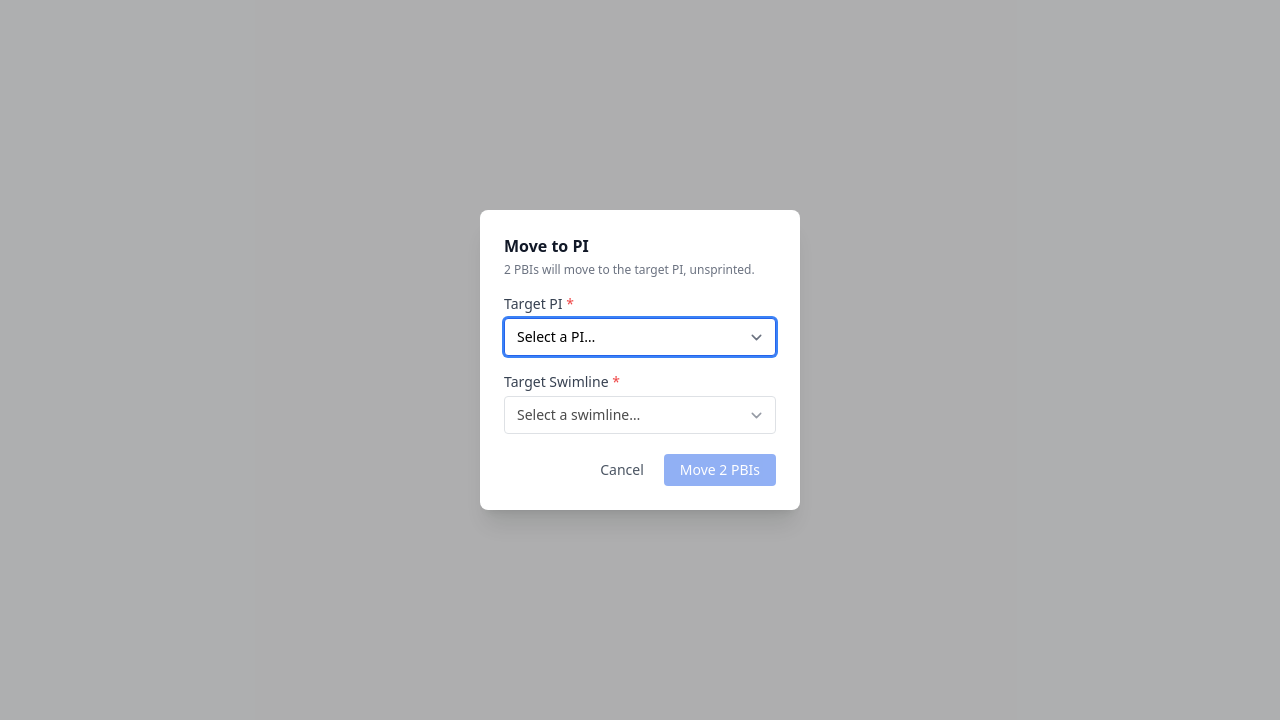
SplitFeatureModal › shows error message on mutation failure
The width and height of the screenshot is (1280, 720).
Select "PI 2" in the dropdown labelled "Target PI *" at (640, 337), box [504,318,776,356]
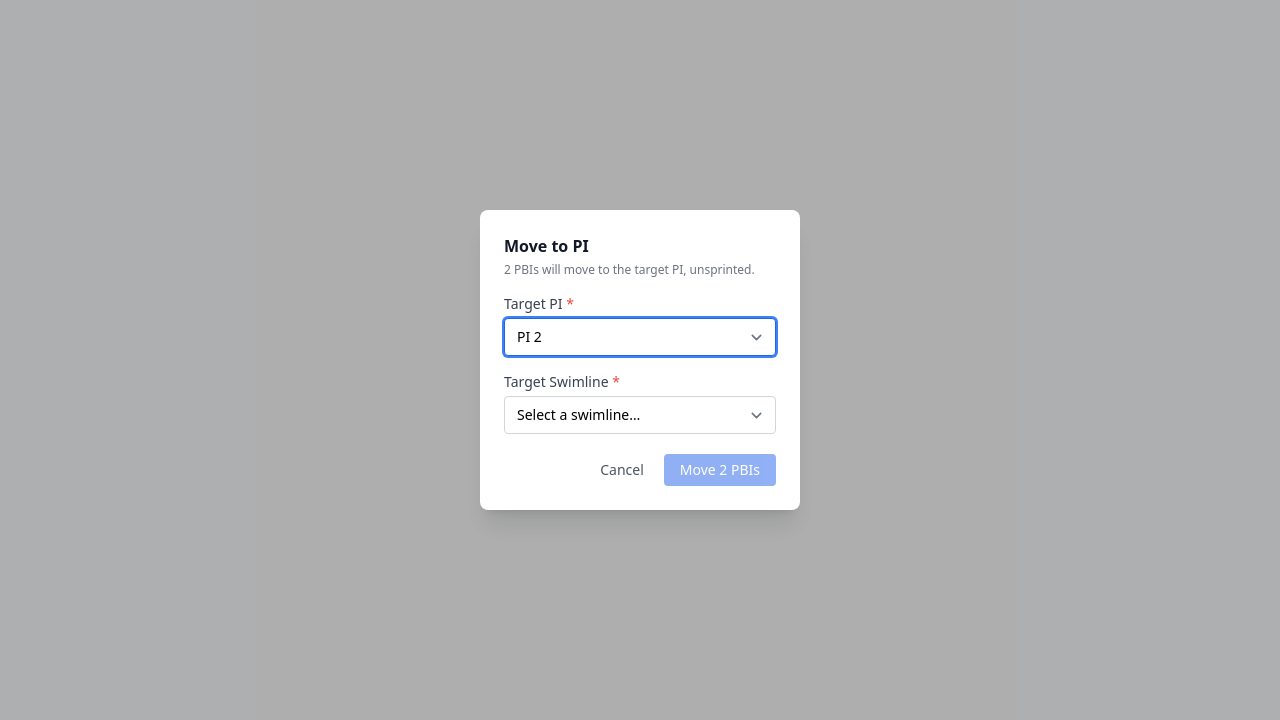
Select "Team Beta" in the dropdown labelled "Target Swimline *" at (640, 415), box [504,396,776,434]
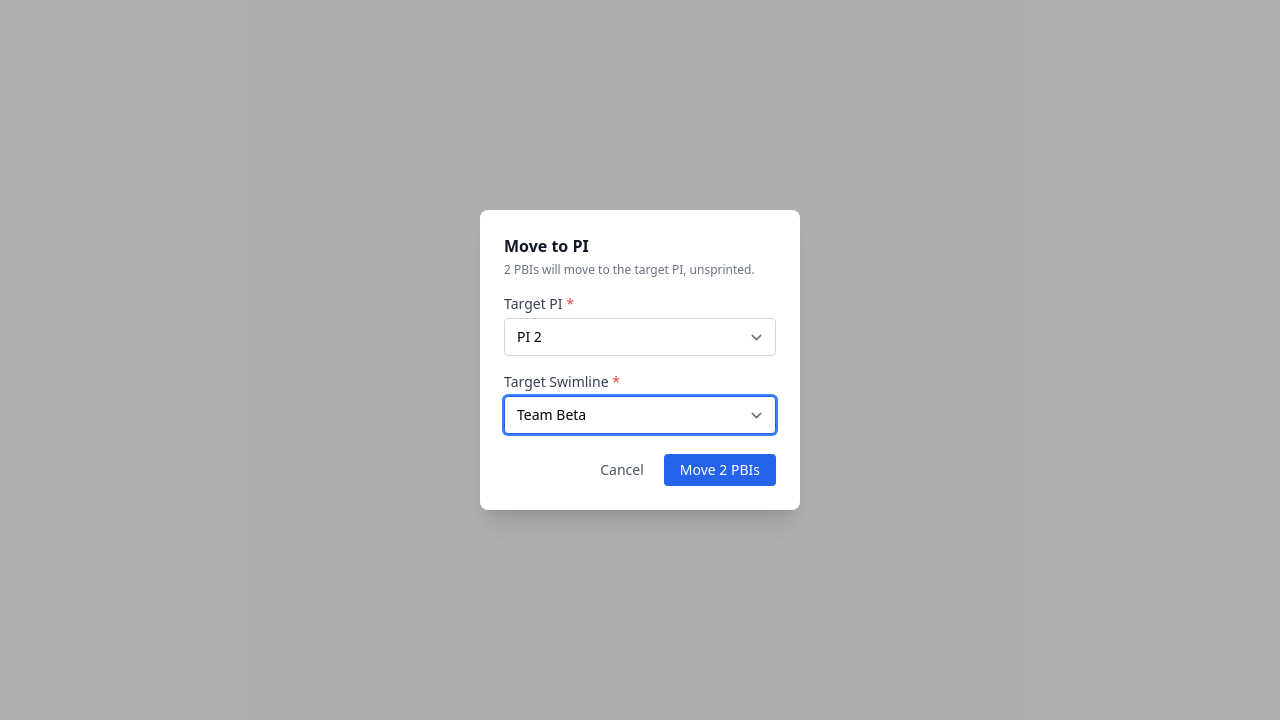
Click the button "Move 2 PBIs" at (720, 470), box [664,454,776,486]
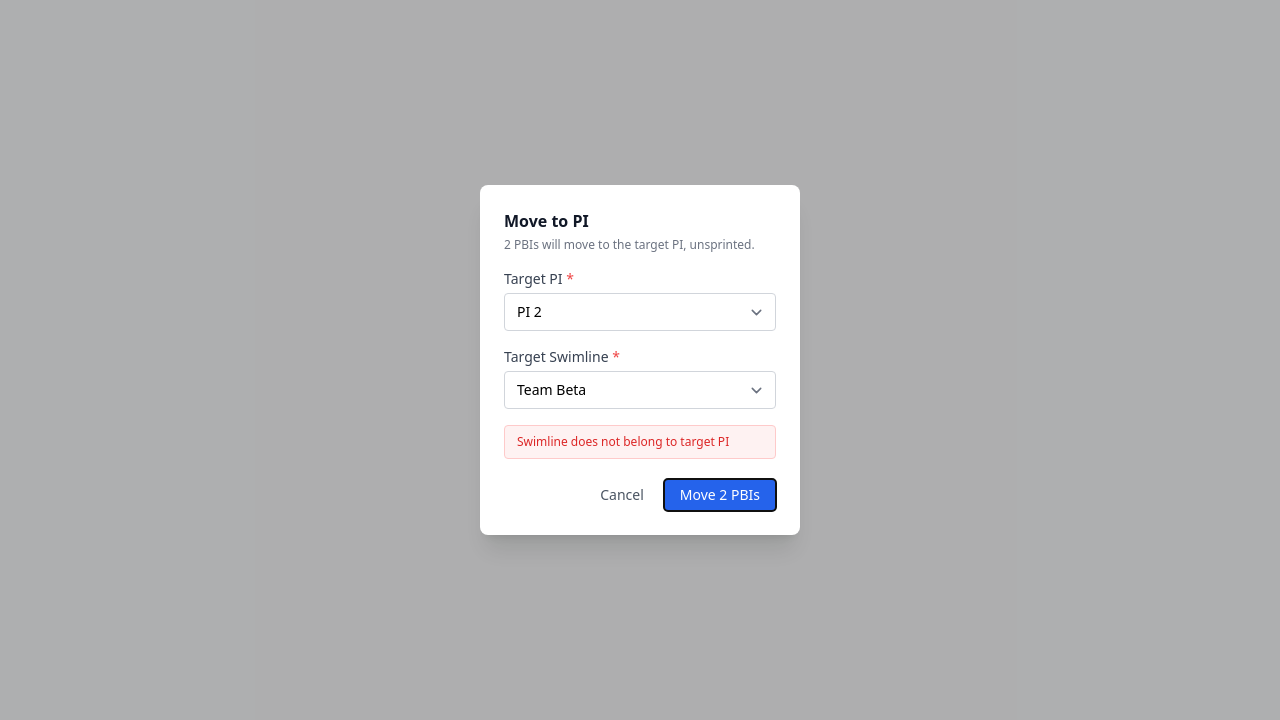
Result: the text "Swimline does not belong to target PI" is shown at [504,425,776,459]
